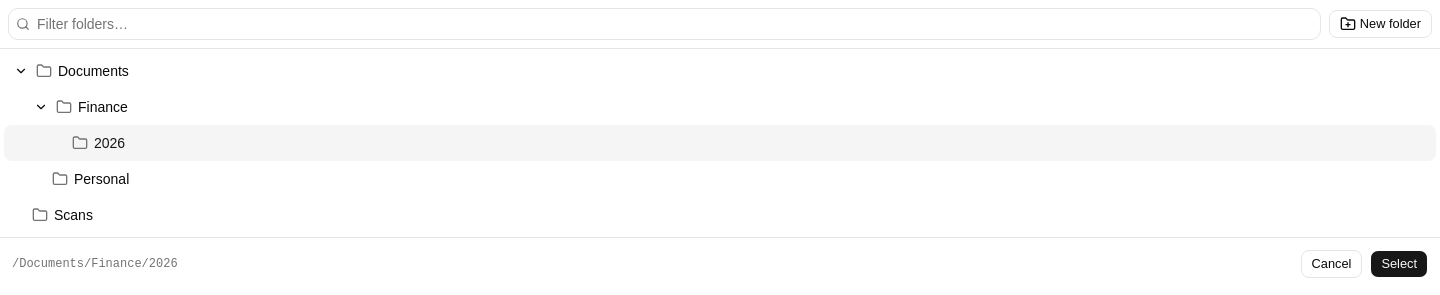
it: FolderPickerBody › type-to-filter narrows to nodes matching the query and their matching ancestors
The width and height of the screenshot is (1440, 295).
Expected: the list item "2026" is shown, x1=4 y1=125 x2=1436 y2=161
Type "2026" into the field labelled "Filter folders". click: (664,24)
box: x1=8 y1=8 x2=1321 y2=40
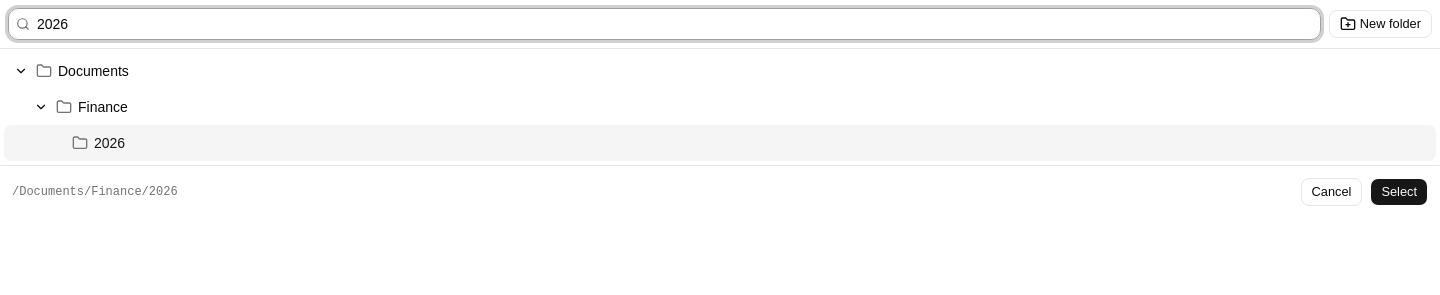
Expected: the list item "Documents" is shown, x1=12 y1=62 x2=129 y2=80
Expected: the text "Personal" is gone
Expected: the text "Scans" is gone
